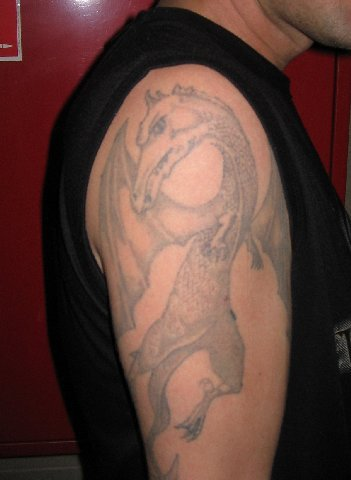tatu6_drakon: (80, 60, 323, 470)
